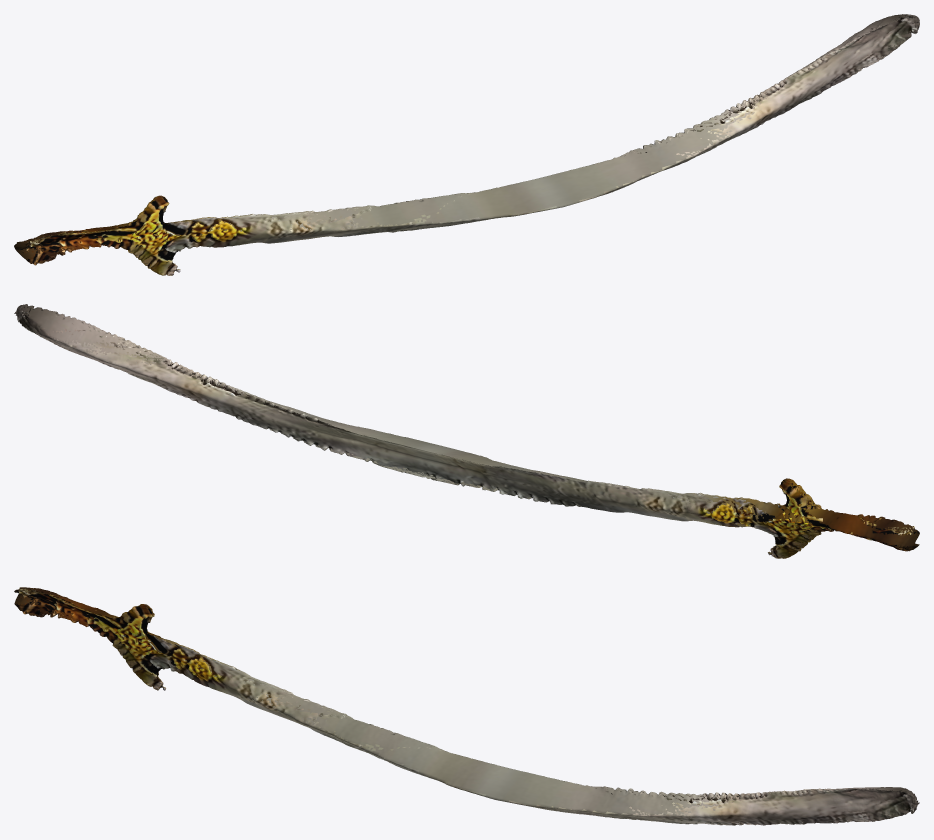
File: kfl-2127.glb
The picture shows the model from 3 angles, top to bottom: view 1: azimuth 30°, elevation 25°; view 2: azimuth 150°, elevation 25°; view 3: azimuth 330°, elevation 25°; orthographic projection.
Visible parts, largest first — view 1: kfl-2127; view 2: kfl-2127; view 3: kfl-2127.
Boxes of the visible parts, x1,y1,x2,y2 form: kfl-2127: (14, 14, 919, 275); kfl-2127: (14, 304, 919, 558); kfl-2127: (14, 587, 919, 825).
Size of the model in its own units: 0.9865 by 0.1001 by 0.0883.
Materials: 4 (4 with a texture image).
